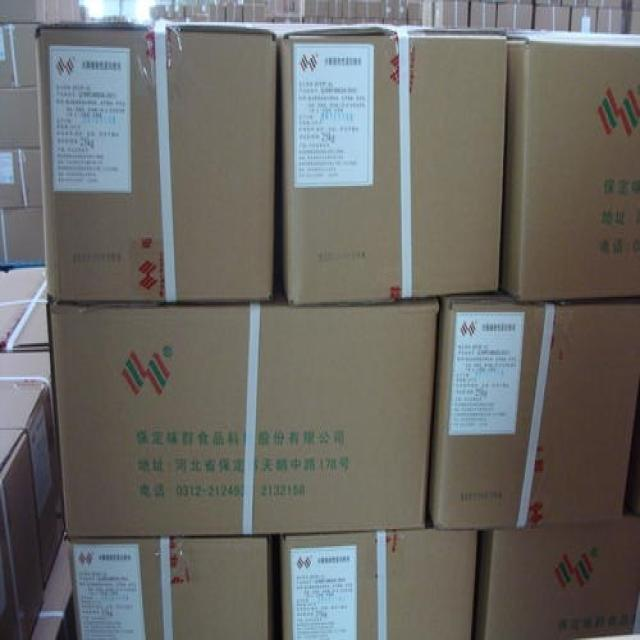box: (46, 283, 439, 539), (33, 20, 278, 300), (279, 22, 507, 305), (426, 292, 640, 529), (500, 29, 640, 304), (280, 519, 477, 640), (67, 534, 274, 640), (474, 515, 640, 640), (0, 352, 64, 592), (0, 430, 45, 640), (0, 268, 51, 352)
